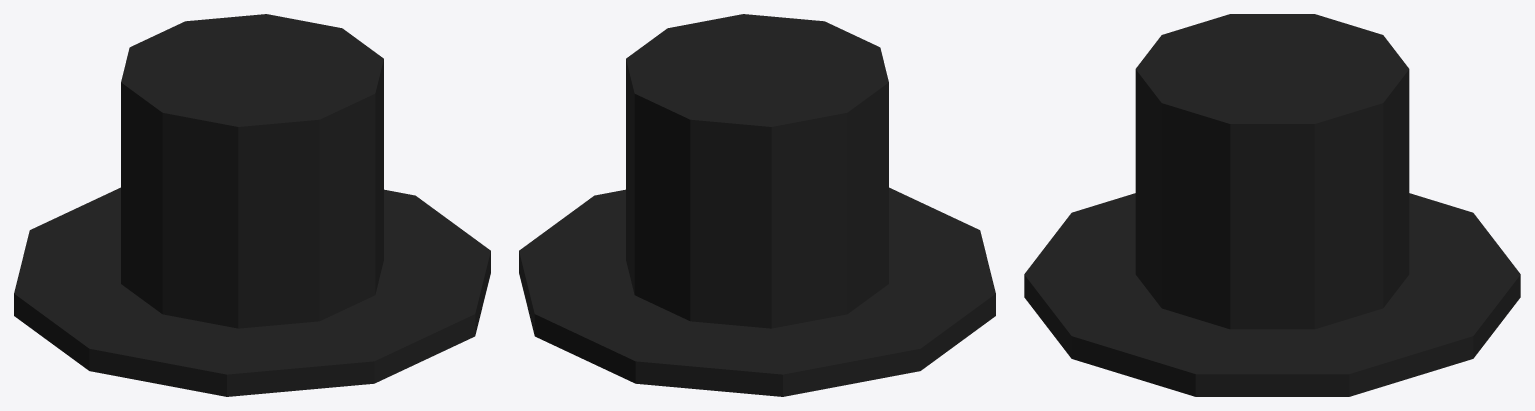
Rendered from spoiler1.glb.
3 views of the same model, side by side, from view 1: azimuth 30°, elevation 25°; view 2: azimuth 150°, elevation 25°; view 3: azimuth 270°, elevation 25° (orthographic).
Visible parts, largest first — view 1: spoiler1; view 2: spoiler1; view 3: spoiler1.
Part boxes in pixels (x1=…): spoiler1: x1=14, y1=14, x2=490, y2=396; spoiler1: x1=519, y1=14, x2=995, y2=396; spoiler1: x1=1024, y1=14, x2=1520, y2=396.
Size of the model in its own units: 2.51 by 1.34 by 2.64.
1 material, 1 textured.
